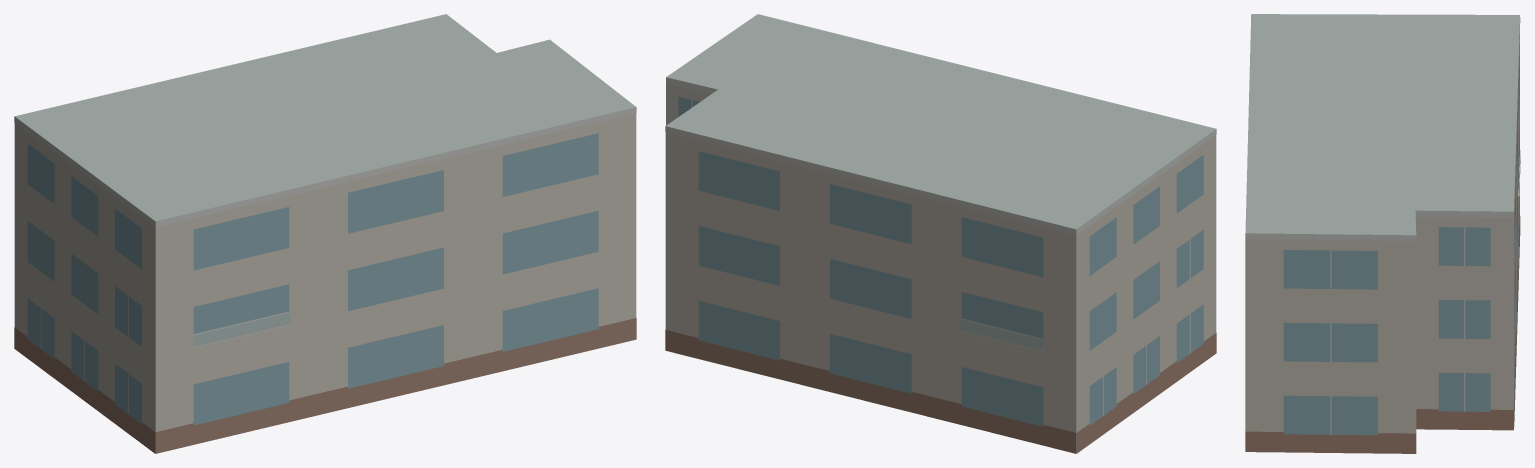
File: survey-upis-32951336.glb
3 renders of one model, left to right at view 1: azimuth 30°, elevation 25°; view 2: azimuth 150°, elevation 25°; view 3: azimuth 270°, elevation 25°, orthographic. The views are drawn at different scales.
Visible parts, largest first — view 1: survey-upis-32951336.tmp; view 2: survey-upis-32951336.tmp; view 3: survey-upis-32951336.tmp.
Part boxes in pixels (x1=…): survey-upis-32951336.tmp: x1=14, y1=14, x2=636, y2=453; survey-upis-32951336.tmp: x1=665, y1=14, x2=1216, y2=453; survey-upis-32951336.tmp: x1=1245, y1=14, x2=1520, y2=453.
Size of the model in its own units: 19.87 by 9.15 by 10.44.
